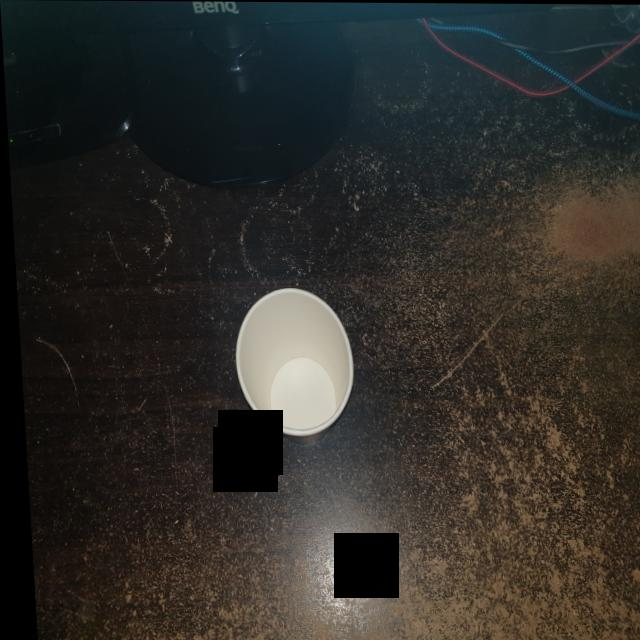cups: (224, 282, 356, 462)
